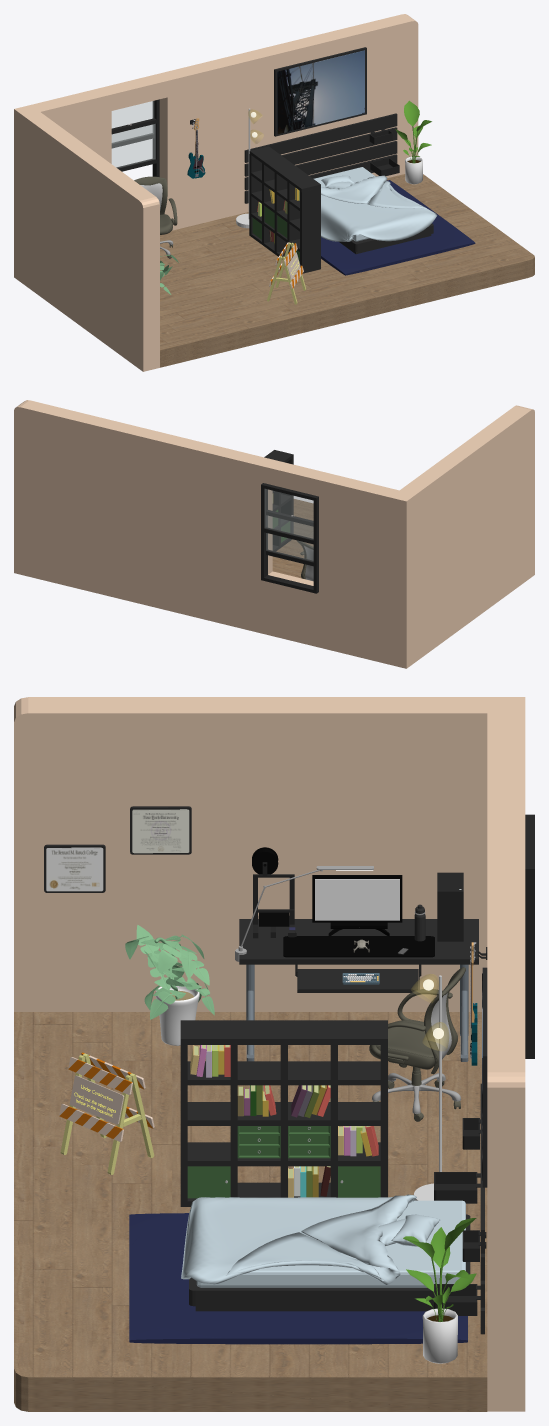
Rendered from room_alpha.gltf.
The picture shows the model from 3 angles, top to bottom: view 1: azimuth 30°, elevation 25°; view 2: azimuth 150°, elevation 25°; view 3: azimuth 270°, elevation 25°; orthographic projection. The views are drawn at different scales.
Visible parts, largest first — view 1: Floor, Right Wall, Left Wall, Cube.013, Cube.094, Plane.007, Cube.148, Cube.004, Cube.117, Cube.002, Cube.003, Cube.115 (+9 smaller); view 2: Right Wall, Left Wall, Cube.115, Cube.141, Cube.117, Floor, Cube.013, Box02; view 3: Left Wall, Floor, Right Wall, Cube.013, Plane.007, Cube.148, Plane.006, Bedframe, Table Top, Cube.008, Cube.007, Cube.090 (+23 smaller).
Boxes of the visible parts, left/top/right/bottom form: Floor: left=160, top=174, right=534, bottom=367; Right Wall: left=31, top=14, right=418, bottom=230; Left Wall: left=14, top=105, right=159, bottom=371; Cube.013: left=249, top=146, right=320, bottom=273; Cube.094: left=277, top=50, right=364, bottom=134; Plane.007: left=321, top=175, right=437, bottom=241; Cube.148: left=321, top=180, right=475, bottom=275; Cube.004: left=244, top=113, right=397, bottom=162; Cube.117: left=112, top=124, right=155, bottom=167; Cube.002: left=244, top=141, right=397, bottom=190; Cube.003: left=244, top=127, right=397, bottom=176; Cube.115: left=112, top=101, right=153, bottom=143; Right Wall: left=14, top=400, right=398, bottom=664; Left Wall: left=390, top=405, right=534, bottom=668; Cube.115: left=265, top=489, right=313, bottom=539; Cube.141: left=261, top=483, right=318, bottom=593; Cube.117: left=266, top=516, right=313, bottom=561; Floor: left=272, top=499, right=313, bottom=578; Cube.013: left=264, top=450, right=293, bottom=551; Box02: left=297, top=540, right=313, bottom=581; Left Wall: left=14, top=697, right=525, bottom=1011; Floor: left=14, top=1012, right=487, bottom=1411; Right Wall: left=487, top=713, right=525, bottom=1411; Cube.013: left=180, top=1020, right=387, bottom=1206; Plane.007: left=181, top=1194, right=416, bottom=1284; Cube.148: left=129, top=1213, right=467, bottom=1344; Plane.006: left=196, top=1200, right=465, bottom=1287; Bedframe: left=189, top=1214, right=470, bottom=1311; Table Top: left=239, top=919, right=478, bottom=964; Cube.008: left=315, top=879, right=399, bottom=920; Cube.007: left=283, top=936, right=434, bottom=957; Cube.090: left=46, top=847, right=103, bottom=891.
Size of what is drawn, in the model's own units: 8.18 by 3.33 by 4.72.
Materials: 119 (6 with a texture image).
